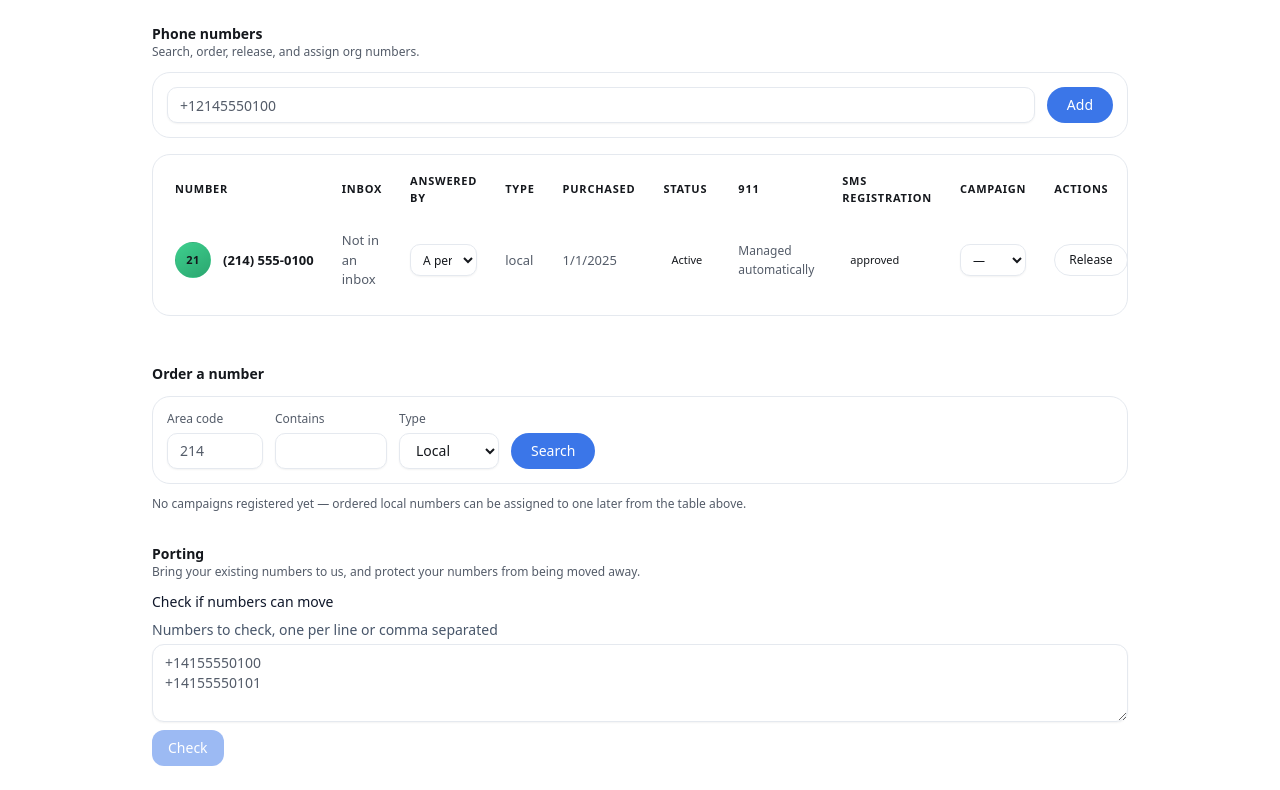
it: NumbersPage › formats search-result prices from cents and falls back to the legacy monthly_cost string
Expected: the text "(214) 555-0100" is shown, 223,250 -> 314,270
Click the button "Search". click: (553, 450)
box: 511,432 -> 595,468
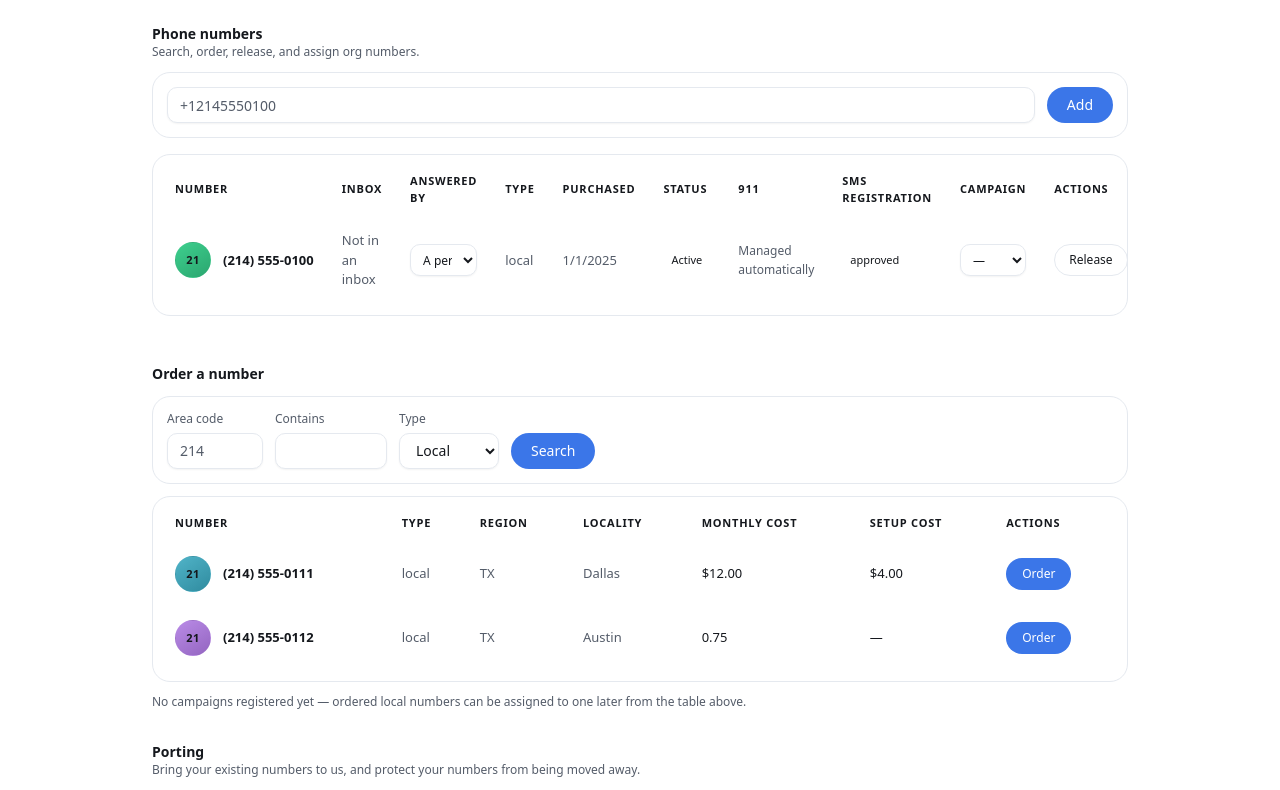
Result: the text "$12.00" is shown at 688,545 -> 856,603
Result: the text "$4.00" is shown at 856,545 -> 992,603
Result: the text "0.75" is shown at 688,609 -> 856,667
